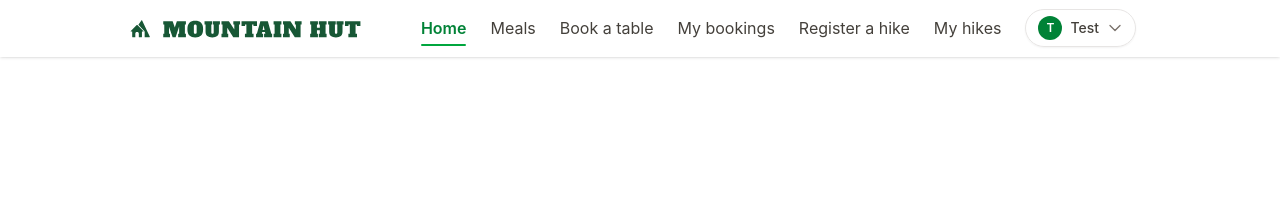
Test case: Navbar › toggles user dropdown menu open and closed, displaying profile info
# Open dropdown
Click the button with aria-label "user menu" at coordinates (1081, 28), box [1025,9,1136,47]
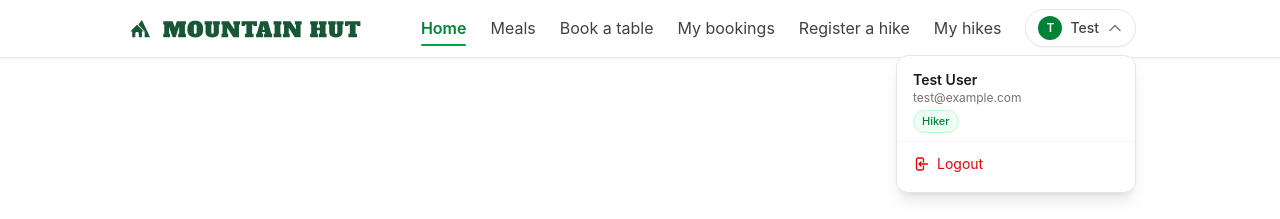
Check: the button with aria-label "user menu" is expanded
Check: the text "Test User" is shown, box [913,71,977,88]
Check: the text "test@example.com" is shown, box [913,90,1022,105]
# Close on second click
Click the button with aria-label "user menu" at coordinates (1081, 28), box [1025,9,1136,47]
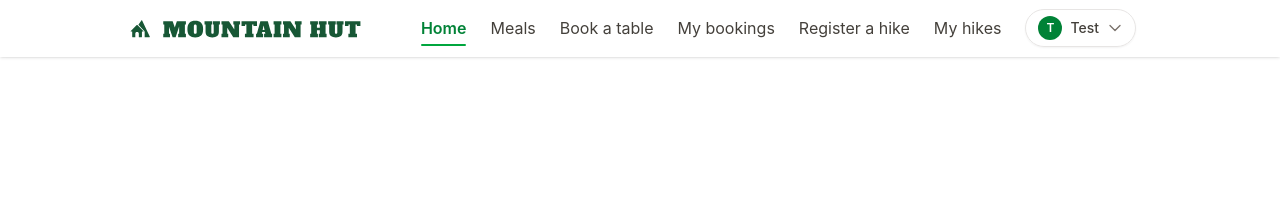
Check: the button with aria-label "user menu" is collapsed
Check: the menu item "Logout" is gone
# Close on Escape key
Click the button with aria-label "user menu" at coordinates (1081, 28), box [1025,9,1136,47]
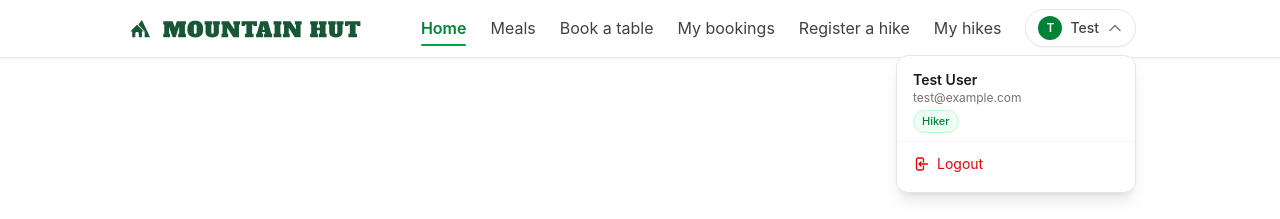
Check: the button with aria-label "user menu" is expanded, box [1025,9,1136,47]
Press Escape
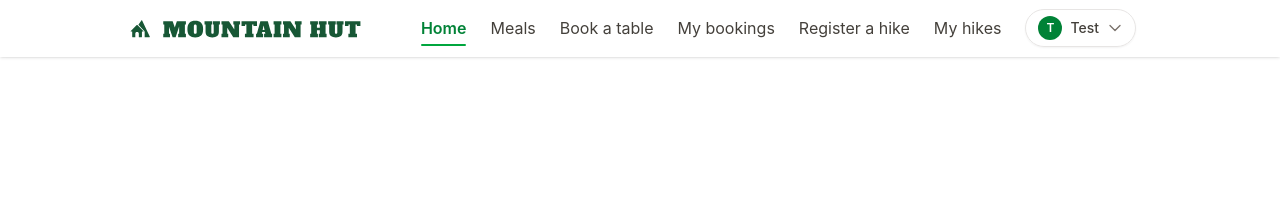
Check: the button with aria-label "user menu" is collapsed, box [1025,9,1136,47]
